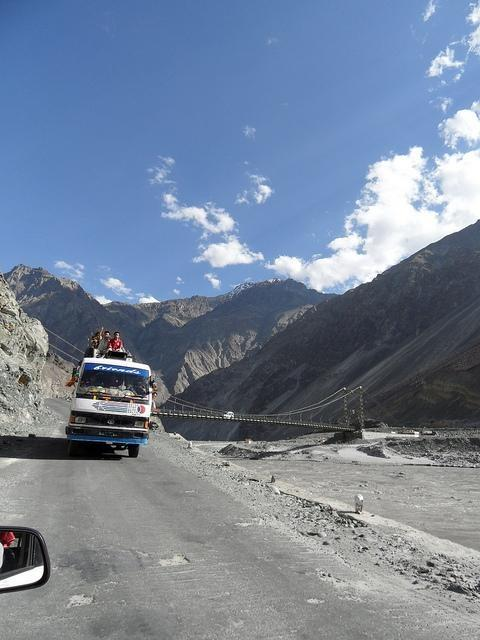bus: (66, 356, 154, 461)
car: (220, 411, 236, 419)
